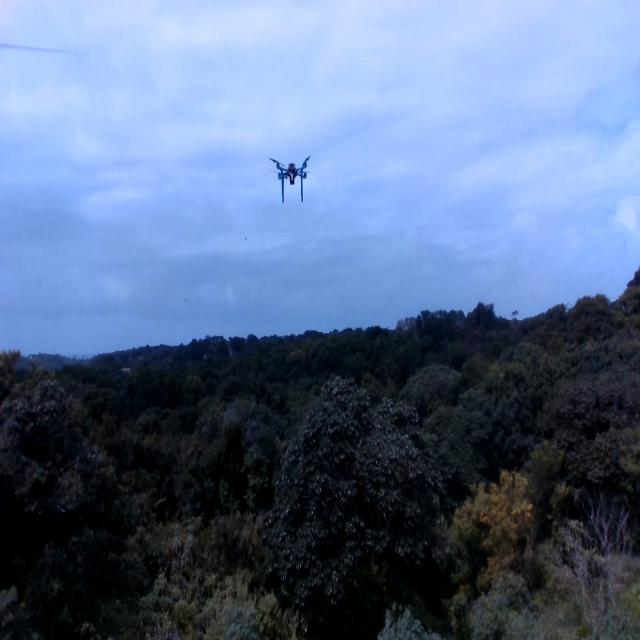-uav-: (260, 147, 320, 209)
